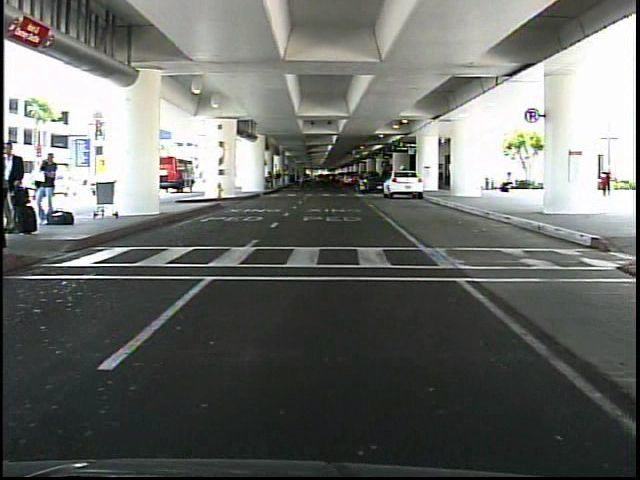person: (36, 147, 61, 226), (594, 163, 618, 203), (497, 166, 517, 197)
